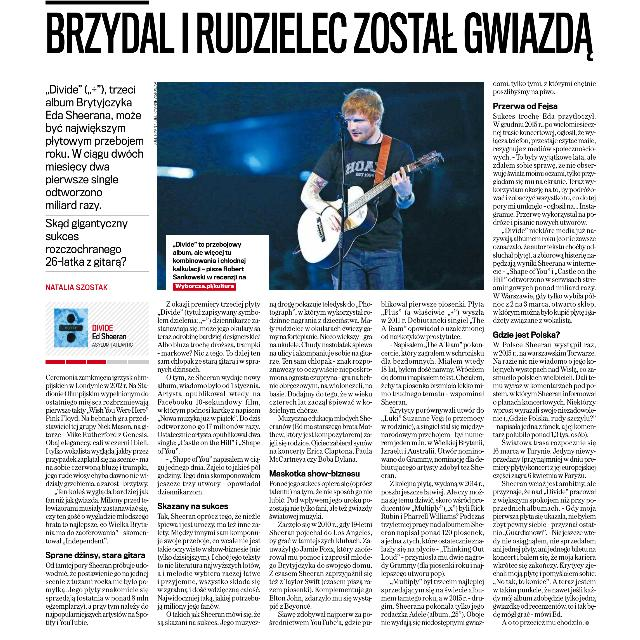author: (41, 278, 113, 294)
body: (490, 80, 600, 628), (152, 298, 266, 632), (266, 298, 376, 630), (378, 298, 488, 630), (41, 372, 150, 630)
caption: (169, 238, 249, 290)
image: (156, 78, 487, 292)
lead: (41, 78, 148, 270)
title: (41, 7, 597, 63)
